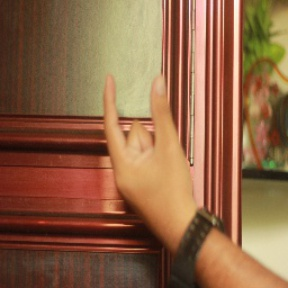U: (82, 67, 194, 204)
